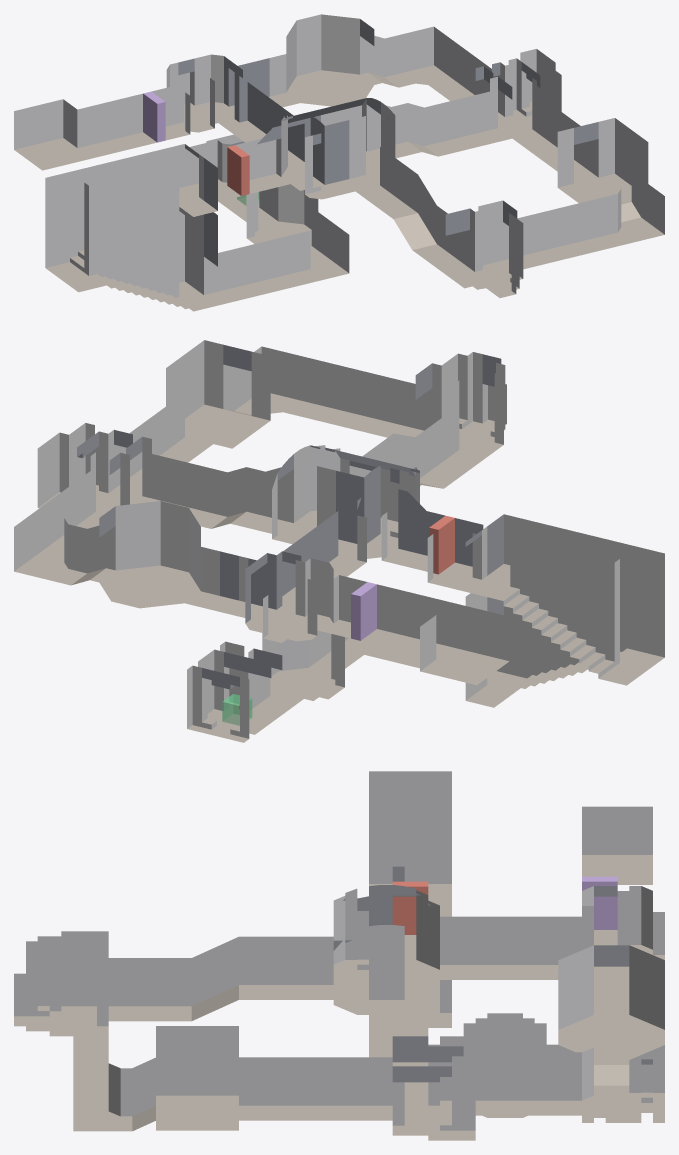
Rendered from research_15.glb.
3 renders of one model, top to bottom at view 1: azimuth 30°, elevation 25°; view 2: azimuth 150°, elevation 25°; view 3: azimuth 270°, elevation 25°, orthographic. The views are drawn at different scales.
Visible parts, largest first — view 1: room:6, corridor:6, corridor:7, corridor:5, room:1, corridor:0, corridor:2, corridor:4, room:5, room:0, room:4, room:3 (+12 smaller); view 2: room:6, corridor:6, corridor:7, room:1, corridor:5, corridor:2, corridor:4, room:5, room:3, room:2, corridor:0, room:0 (+14 smaller); view 3: corridor:6, corridor:7, corridor:0, room:1, room:6, corridor:3, room:3, room:0, room:5, corridor:5, room:4, entities (+13 smaller).
Part boxes in pixels (<box>): room:6: <box>45,144,217,311</box>; corridor:6: <box>503,94,664,269</box>; corridor:7: <box>228,14,500,114</box>; corridor:5: <box>204,184,349,305</box>; room:1: <box>281,98,395,199</box>; corridor:0: <box>356,147,469,274</box>; corridor:2: <box>391,91,503,156</box>; corridor:4: <box>77,85,190,158</box>; room:5: <box>14,99,91,170</box>; room:0: <box>445,200,519,294</box>; room:4: <box>166,54,239,132</box>; room:3: <box>475,49,561,140</box>; room:6: <box>465,514,664,707</box>; corridor:6: <box>114,340,432,495</box>; corridor:7: <box>14,471,262,618</box>; room:1: <box>272,445,419,559</box>; corridor:5: <box>253,630,503,714</box>; corridor:2: <box>146,454,265,528</box>; corridor:4: <box>323,575,452,658</box>; room:5: <box>420,603,509,685</box>; room:3: <box>37,423,151,517</box>; room:2: <box>187,641,282,742</box>; corridor:0: <box>349,409,481,488</box>; room:0: <box>415,352,503,460</box>; corridor:6: <box>73,1026,392,1131</box>; corridor:7: <box>463,945,664,1115</box>; corridor:0: <box>108,936,333,1021</box>; room:1: <box>333,885,439,1014</box>; room:6: <box>369,771,451,1027</box>; corridor:3: <box>440,916,581,979</box>; room:3: <box>392,1036,475,1140</box>; room:0: <box>26,931,108,1041</box>; room:5: <box>582,806,652,884</box>; corridor:5: <box>369,1013,574,1117</box>; room:4: <box>582,886,652,979</box>; entities: <box>392,876,617,934</box>.
Size of the model in its own units: 61 by 18 by 55.
